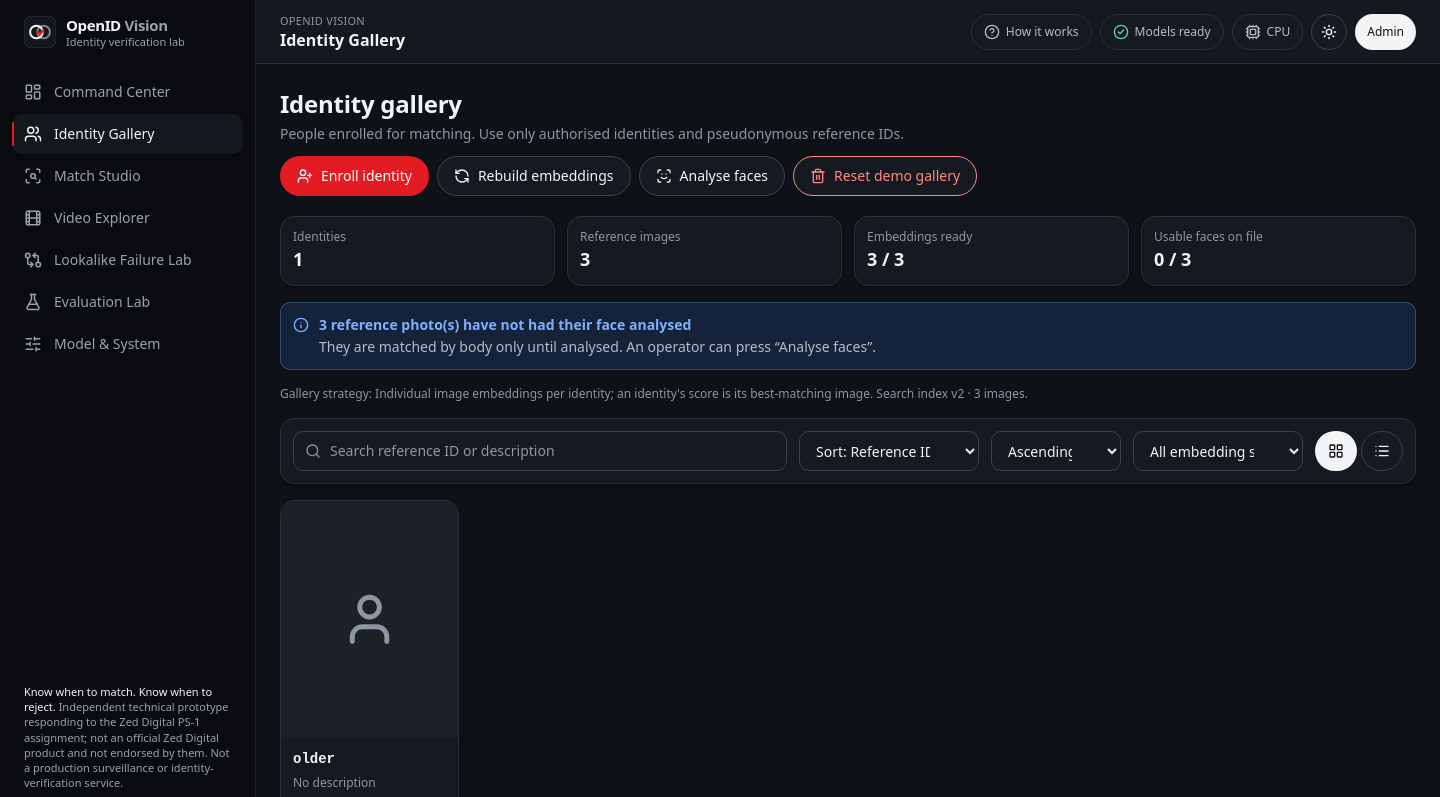
Test: Identity gallery with faces › 'Analyse faces' asks the server to fingerprint the faces of photos enrolled before face matching
Expected: the text "3 reference photo(s) have not had their face analysed" is shown, [319,315,691,334]
Click the button "Analyse faces" at (712, 176), box [638,156,785,196]
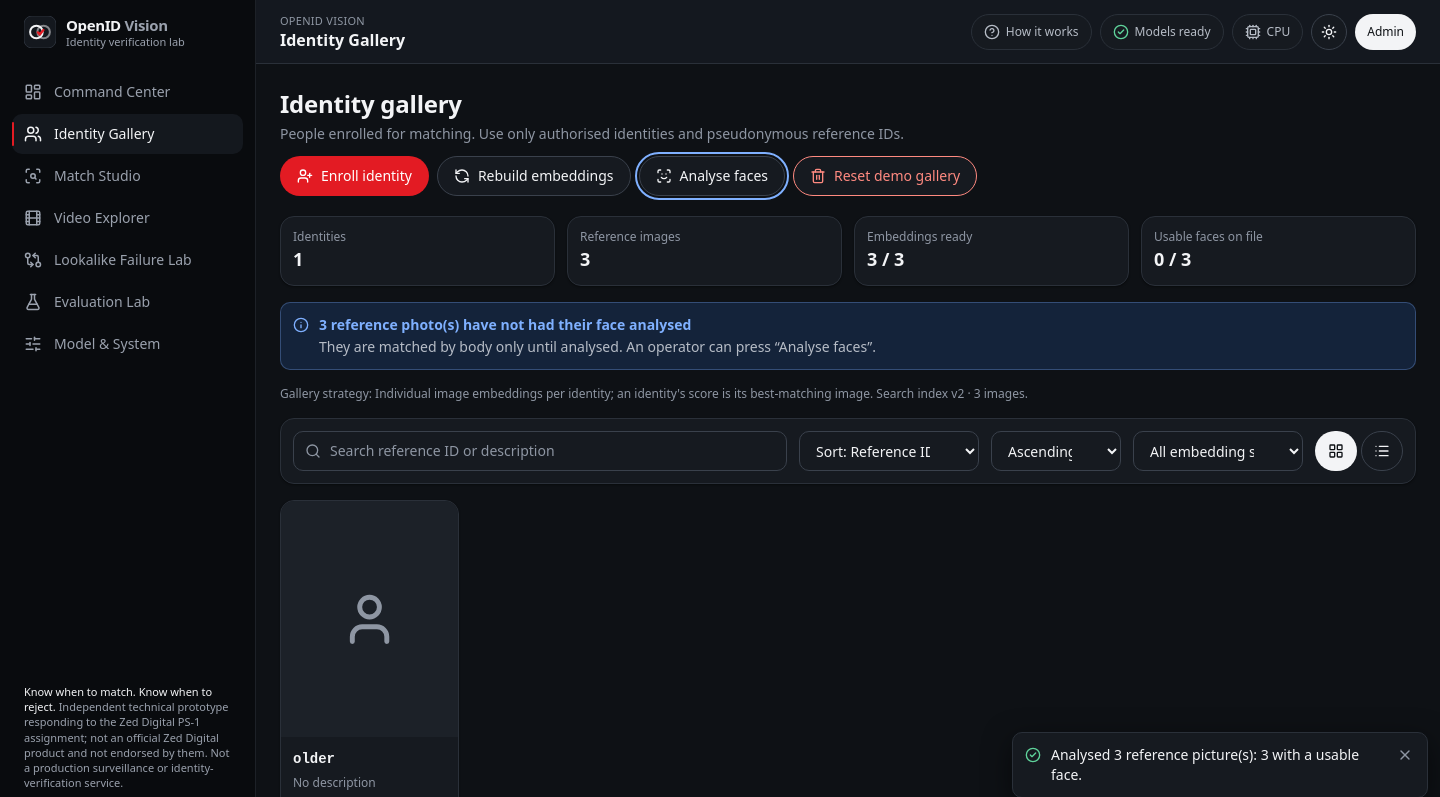
Expected: the text "Analysed 3 reference picture(s): 3 with a usable face." is shown, [1051,745,1385,785]
